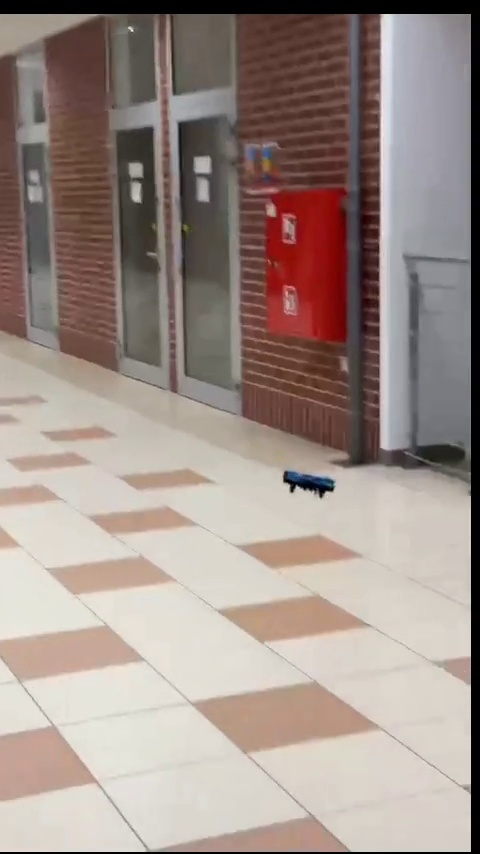drone: (283, 469, 339, 499)
